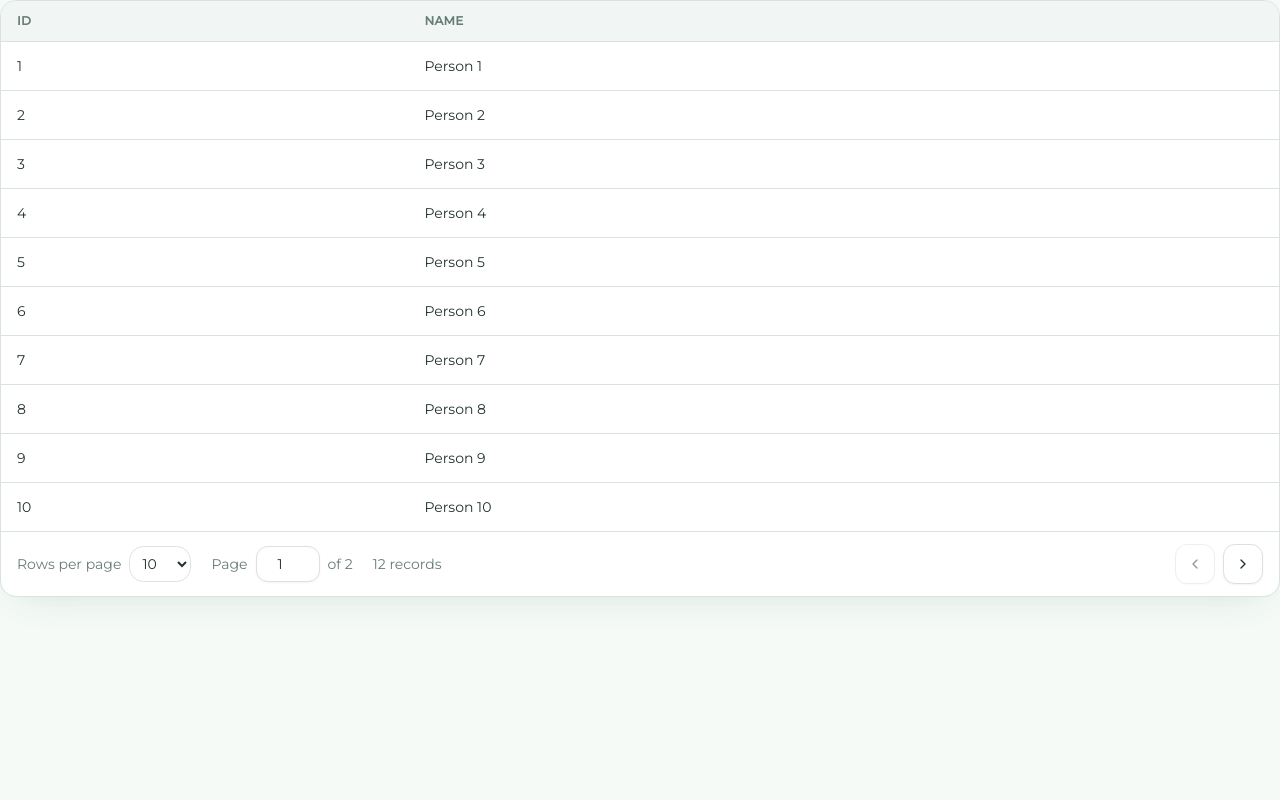
Test case: CustomTable › paginates through the complete row set
Check: the cell "Person 10" is shown, box [408, 482, 1279, 531]
Check: the cell "Person 11" is not shown
Click the button named "Next page" at (1243, 564), box [1223, 544, 1263, 584]
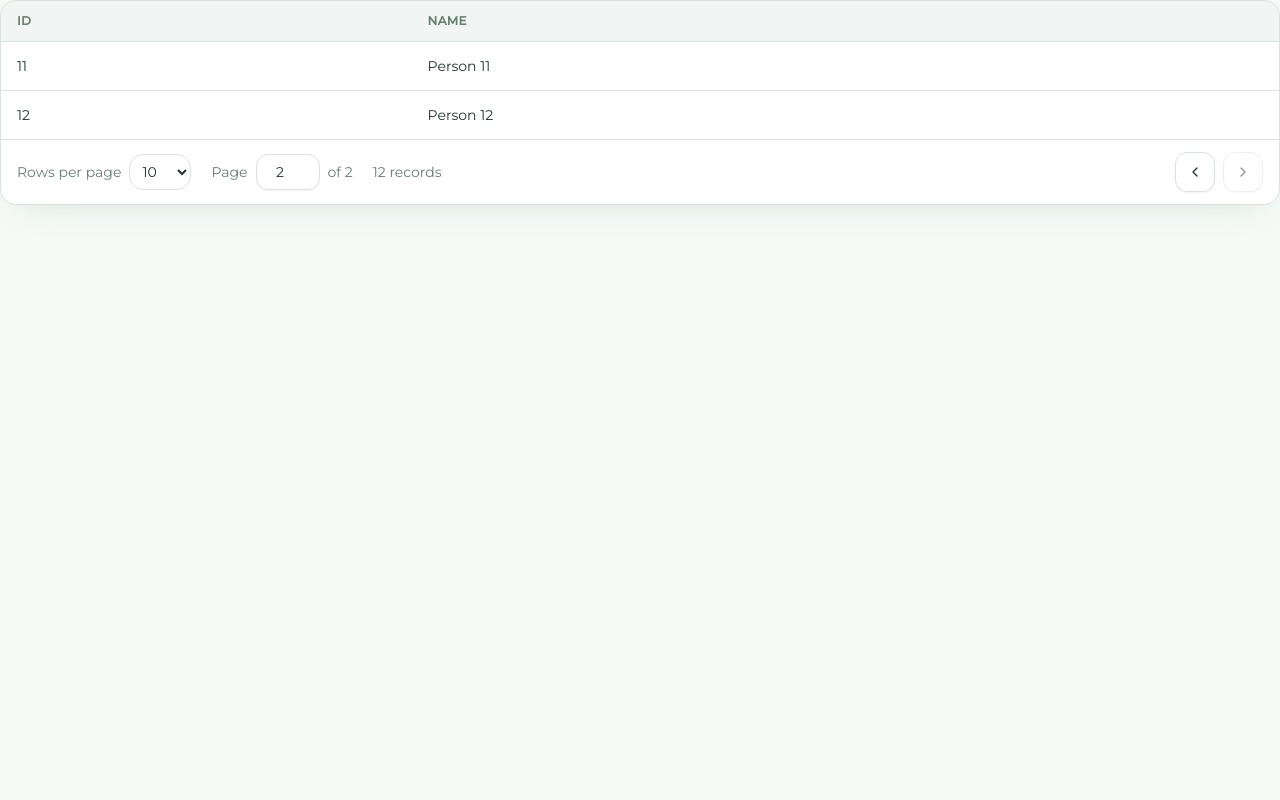
Check: the cell "Person 11" is shown, box [412, 42, 1279, 90]
Check: the cell "Person 12" is shown, box [412, 90, 1279, 139]
